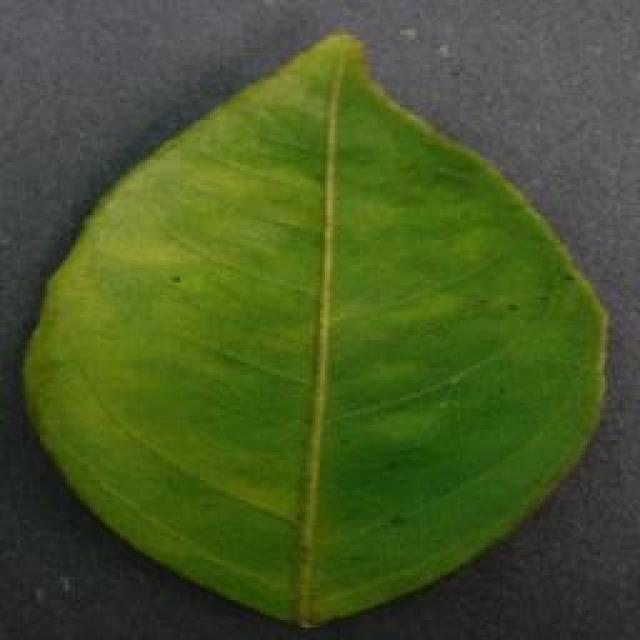Orange_Haunglongbing_Citrus_greening: (100, 139, 545, 561)
